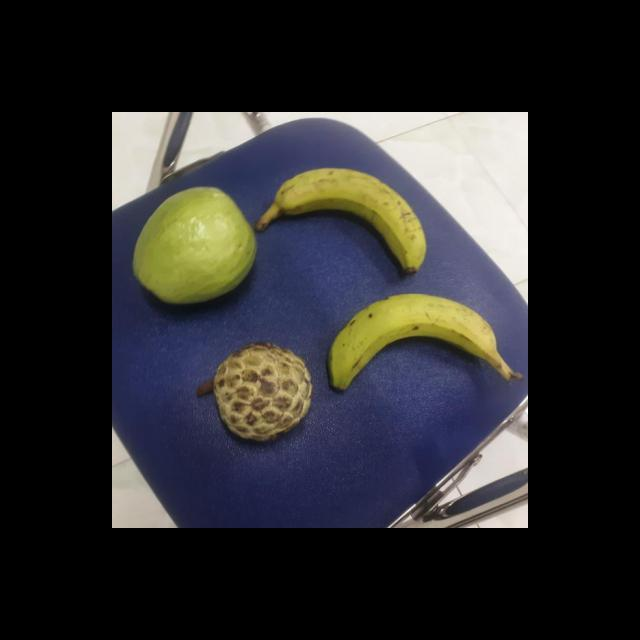Sakya fruit: (200, 342, 310, 440)
banana: (252, 167, 422, 280), (323, 293, 499, 389)
guava: (126, 188, 258, 306)
